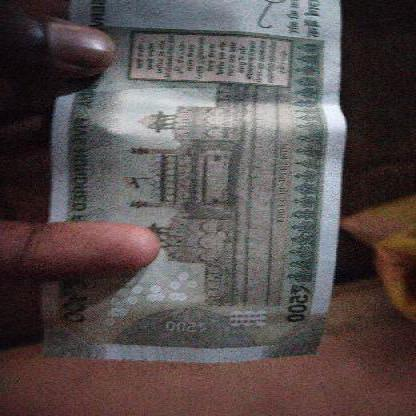New500Back: (42, 1, 336, 357)
